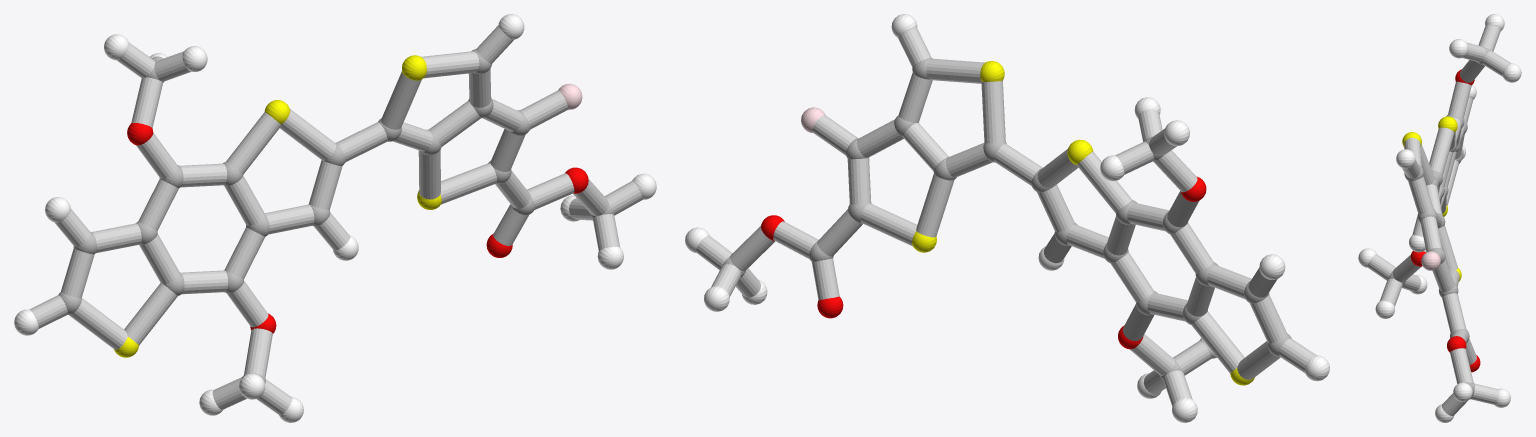
The model's file is color.glb.
3 views of the same model, side by side, from view 1: azimuth 30°, elevation 25°; view 2: azimuth 150°, elevation 25°; view 3: azimuth 270°, elevation 25° (orthographic). The views are drawn at different scales.
Parts seen in each view (by area): view 1: grp15205, grp8689, grp1, grp7241, grp13395; view 2: grp15205, grp8689, grp1, grp7241, grp13395; view 3: grp15205, grp8689, grp1, grp13395, grp7241, grp14843.
Boxes of the visible parts, x1,y1,x2,y2 form: grp15205: [29, 25, 642, 415]; grp8689: [14, 14, 656, 422]; grp1: [58, 49, 613, 383]; grp7241: [114, 55, 441, 357]; grp13395: [127, 123, 588, 333]; grp15205: [696, 28, 1316, 405]; grp8689: [685, 14, 1329, 422]; grp1: [722, 57, 1291, 380]; grp7241: [912, 61, 1254, 385]; grp13395: [761, 176, 1206, 349]; grp15205: [1367, 24, 1510, 415]; grp8689: [1358, 14, 1521, 422]; grp1: [1388, 47, 1491, 399]; grp13395: [1410, 69, 1480, 372]; grp7241: [1402, 116, 1461, 281]; grp14843: [1421, 251, 1440, 270].
Bounding box in the file's own units: 16.99 × 9.01 × 5.
